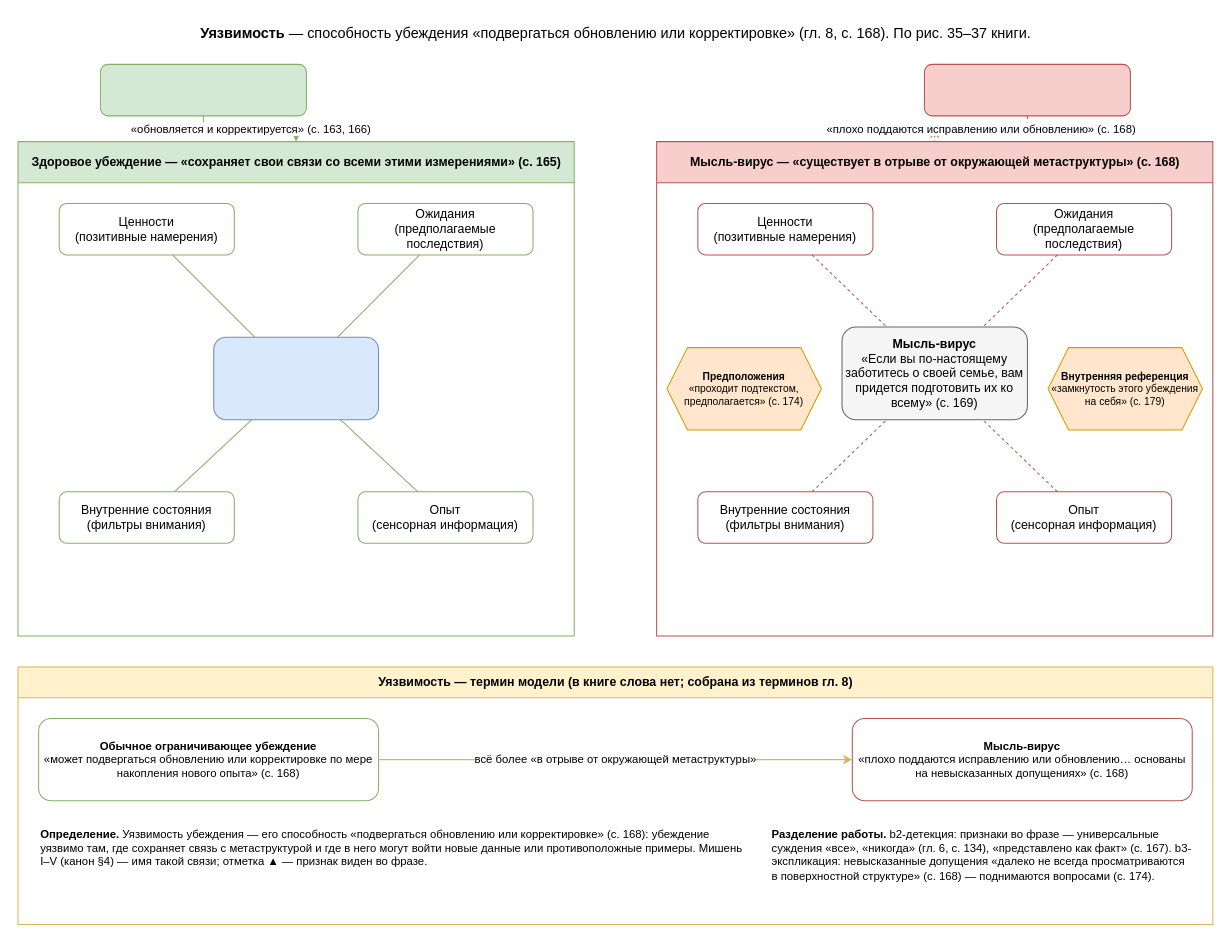
The diagram is 1231 pixels wide and 942 high, and some of its shapes have lost their labels. Each missing label, with the centre of its shape:
"новые данные · противоположные примеры" goes at point (1026, 89).
"новый опыт · противоположные примеры" goes at point (202, 89).
"Убеждение (обобщение) «Я могу научиться» (рис. 35)" goes at point (296, 378).
